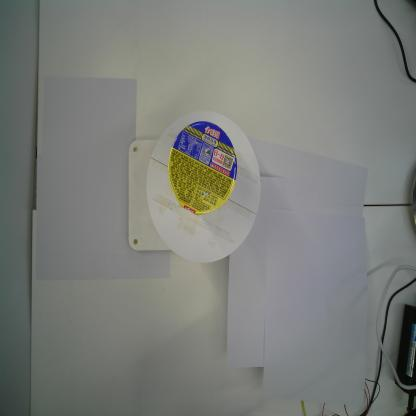Instant Noodles: (167, 120, 238, 216)
